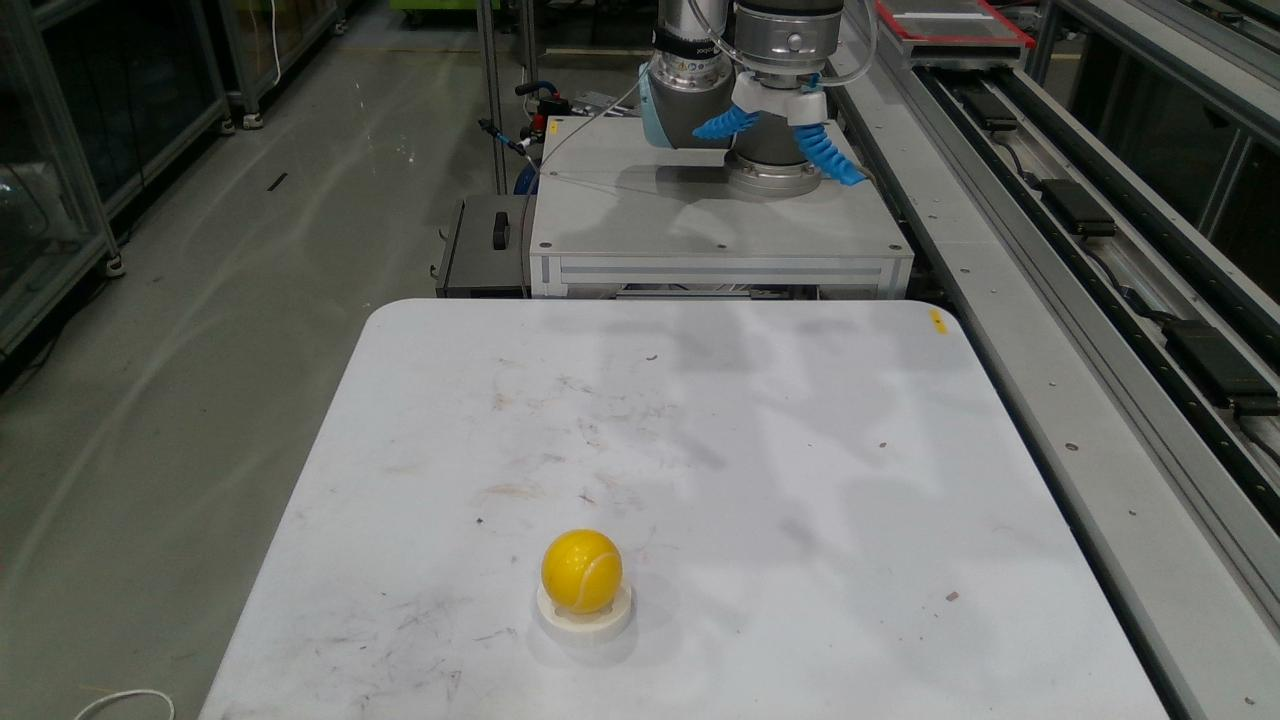UR5: (638, 0, 842, 196)
gripper_left: (692, 104, 759, 140)
gripper_right: (794, 124, 864, 187)
target: (541, 528, 623, 613), (534, 584, 632, 646)
